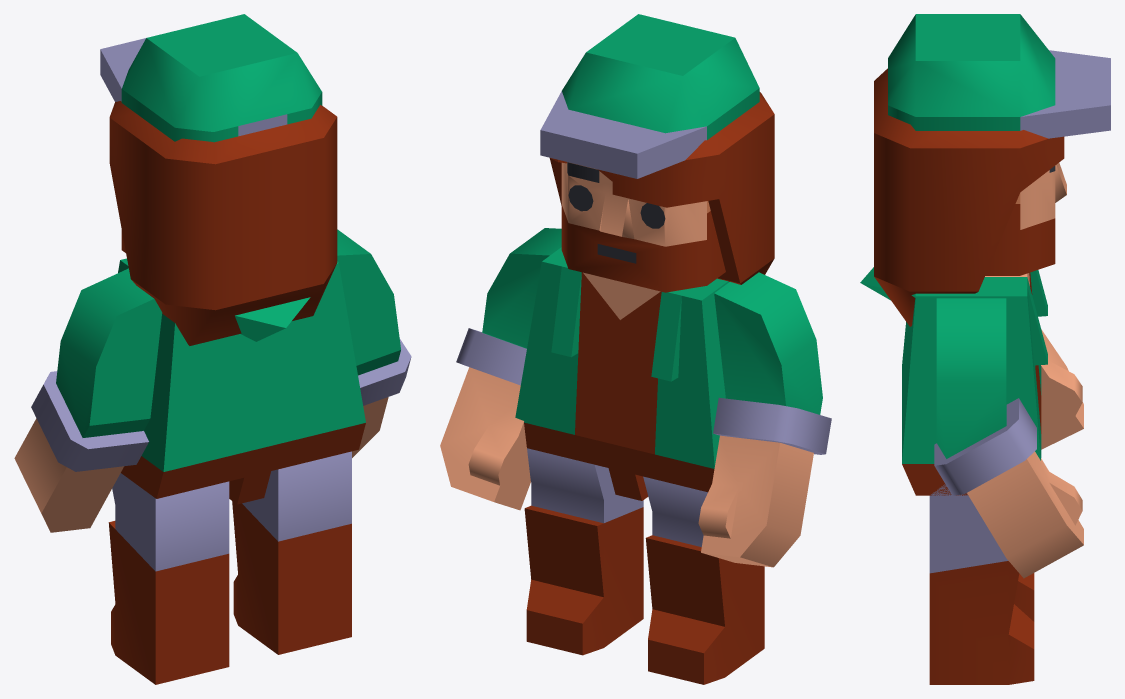
The model's file is man_not_clown.glb.
3 renders of one model, left to right at view 1: azimuth 30°, elevation 25°; view 2: azimuth 150°, elevation 25°; view 3: azimuth 270°, elevation 25°, orthographic.
Parts seen in each view (by area): view 1: mergedBlocks(Clone); view 2: mergedBlocks(Clone); view 3: mergedBlocks(Clone).
Part boxes in pixels (box(x1,y1,x2,y2)): mergedBlocks(Clone): box(14, 14, 411, 684); mergedBlocks(Clone): box(440, 14, 831, 684); mergedBlocks(Clone): box(860, 14, 1110, 684).
Size of the model in its own units: 0.5671 by 0.9414 by 0.36.
